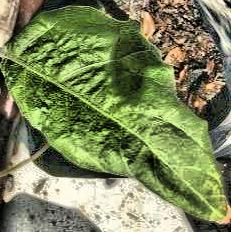HEALTHY: (1, 1, 231, 232)
